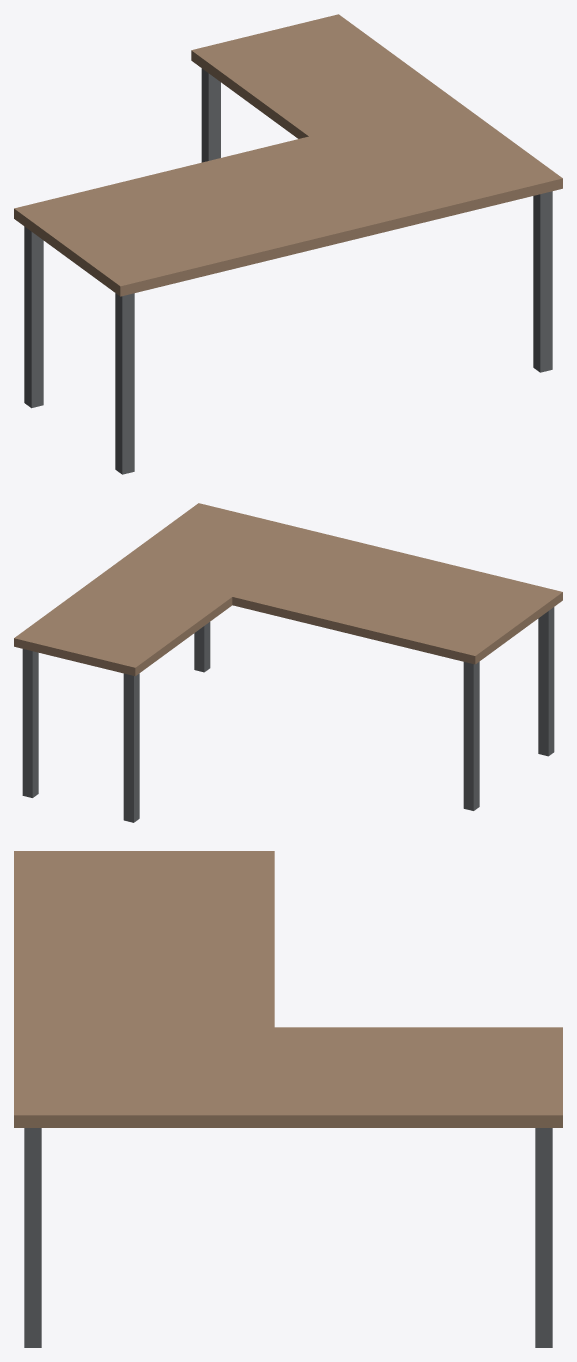
The model's file is DSK-004.glb.
3 views of the same model, one above another, from view 1: azimuth 30°, elevation 25°; view 2: azimuth 150°, elevation 25°; view 3: azimuth 270°, elevation 25° (orthographic). The views are drawn at different scales.
Parts seen in each view (by area): view 1: Cube, Cube.001, Cube.002, Cube.004, Cube.003, Cube.006; view 2: Cube, Cube.001, Cube.003, Cube.006, Cube.005, Cube.002, Cube.004; view 3: Cube, Cube.001, Cube.004, Cube.005.
Part boxes in pixels (x1,y1,x2,y2): Cube: (14, 101, 562, 296); Cube.001: (191, 14, 458, 138); Cube.002: (115, 293, 134, 474); Cube.004: (533, 191, 552, 372); Cube.003: (24, 226, 43, 408); Cube.006: (201, 68, 220, 162); Cube: (112, 503, 562, 664); Cube.001: (14, 566, 232, 676); Cube.003: (463, 661, 479, 810); Cube.006: (123, 673, 139, 822); Cube.005: (22, 649, 38, 797); Cube.002: (538, 607, 554, 756); Cube.004: (194, 622, 210, 672); Cube: (14, 851, 274, 1127); Cube.001: (267, 1027, 562, 1127); Cube.004: (24, 1128, 41, 1347); Cube.005: (535, 1128, 552, 1347).
Bounding box in the file's own units: 1.8 × 0.75 × 1.58.
